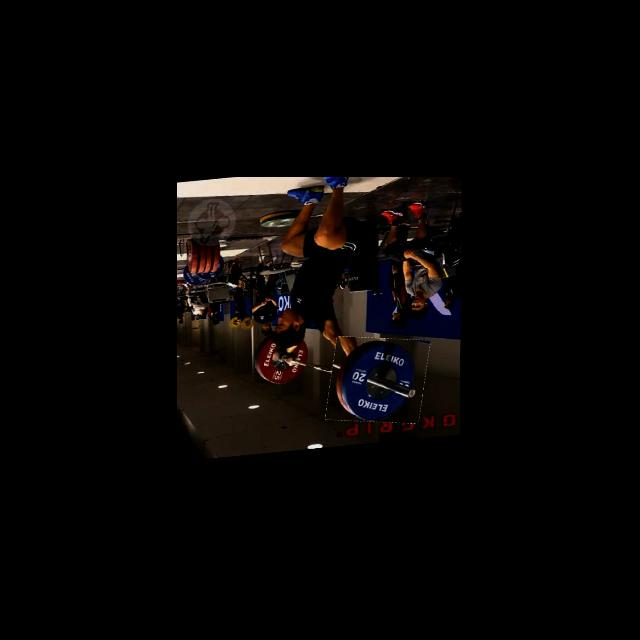barbell: (328, 335, 428, 432)
